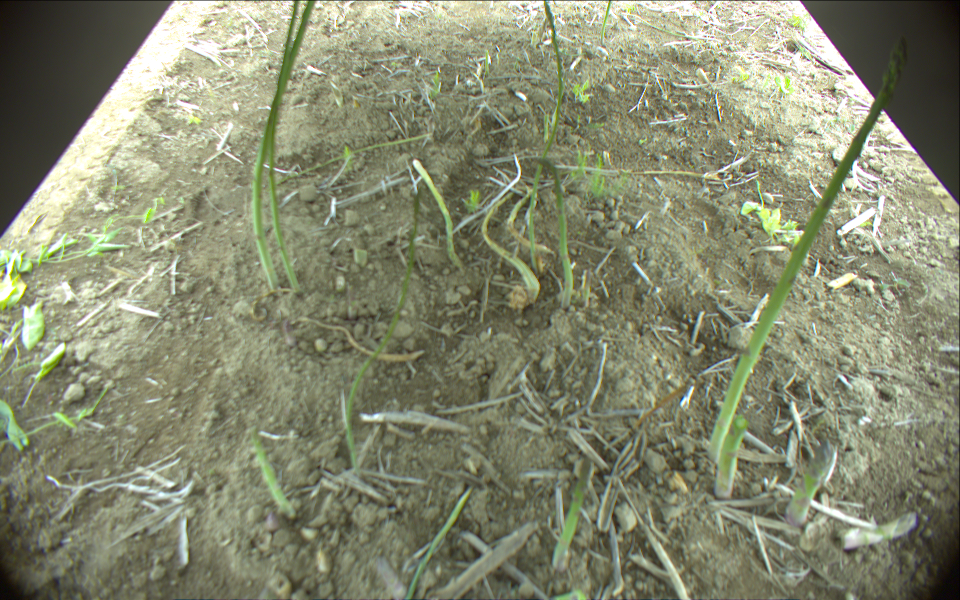aspa: (707, 38, 908, 461), (346, 189, 420, 467), (251, 1, 315, 293), (265, 1, 303, 294), (278, 131, 431, 186), (406, 487, 475, 600), (481, 190, 541, 297), (552, 456, 593, 572), (411, 159, 458, 259), (249, 426, 299, 518), (782, 439, 833, 524), (541, 1, 563, 158), (834, 509, 915, 551), (508, 186, 555, 255), (715, 413, 749, 498), (554, 174, 572, 308), (601, 1, 612, 44), (584, 268, 591, 305)
